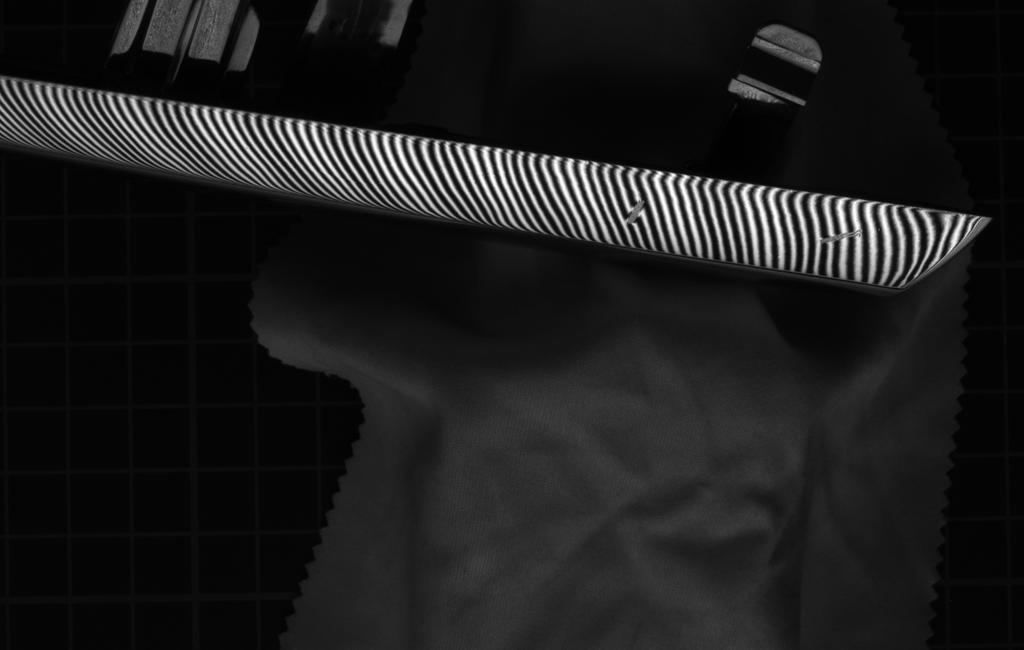Scratch: (814, 226, 870, 248), (622, 195, 650, 231)
